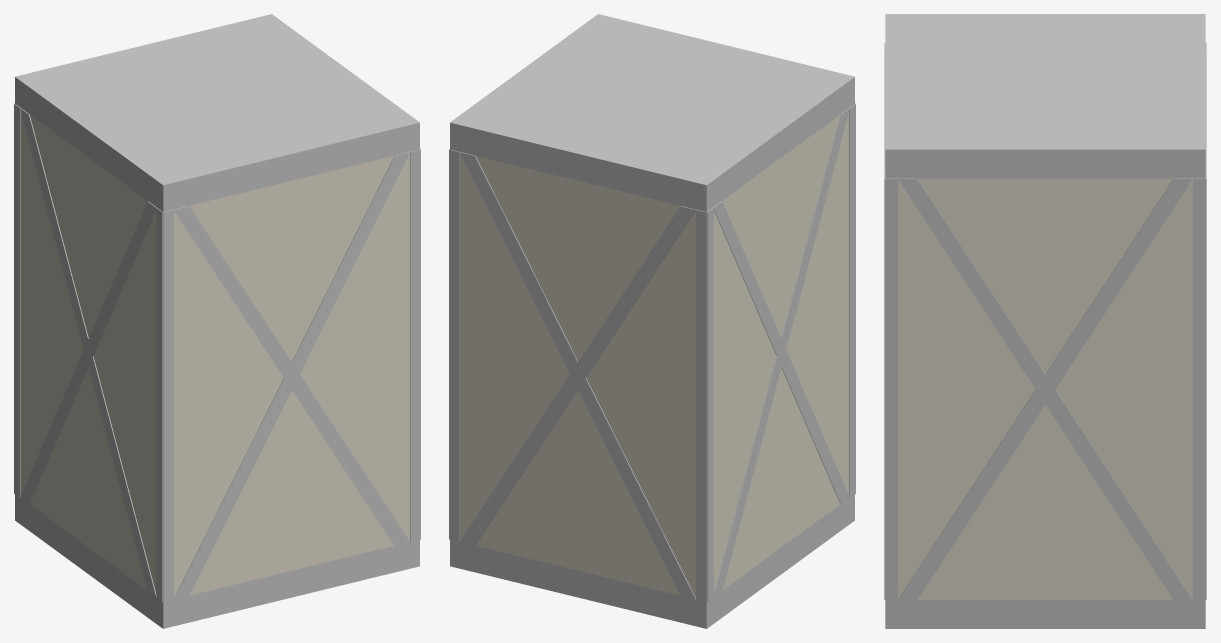
File: vfem2_timbered_wall_post.obj
3 views of the same model, side by side, from view 1: azimuth 30°, elevation 25°; view 2: azimuth 150°, elevation 25°; view 3: azimuth 270°, elevation 25° (orthographic). The views are drawn at different scales.
Parts seen in each view (by area): view 1: vfem2_timbered_wall_post; view 2: vfem2_timbered_wall_post; view 3: vfem2_timbered_wall_post.
Part boxes in pixels (x1,y1,x2,y2): vfem2_timbered_wall_post: (14,14,420,628); vfem2_timbered_wall_post: (449,14,855,628); vfem2_timbered_wall_post: (884,14,1206,628).
Bounding box in the file's own units: 1.01 × 1.65 × 1.01.
